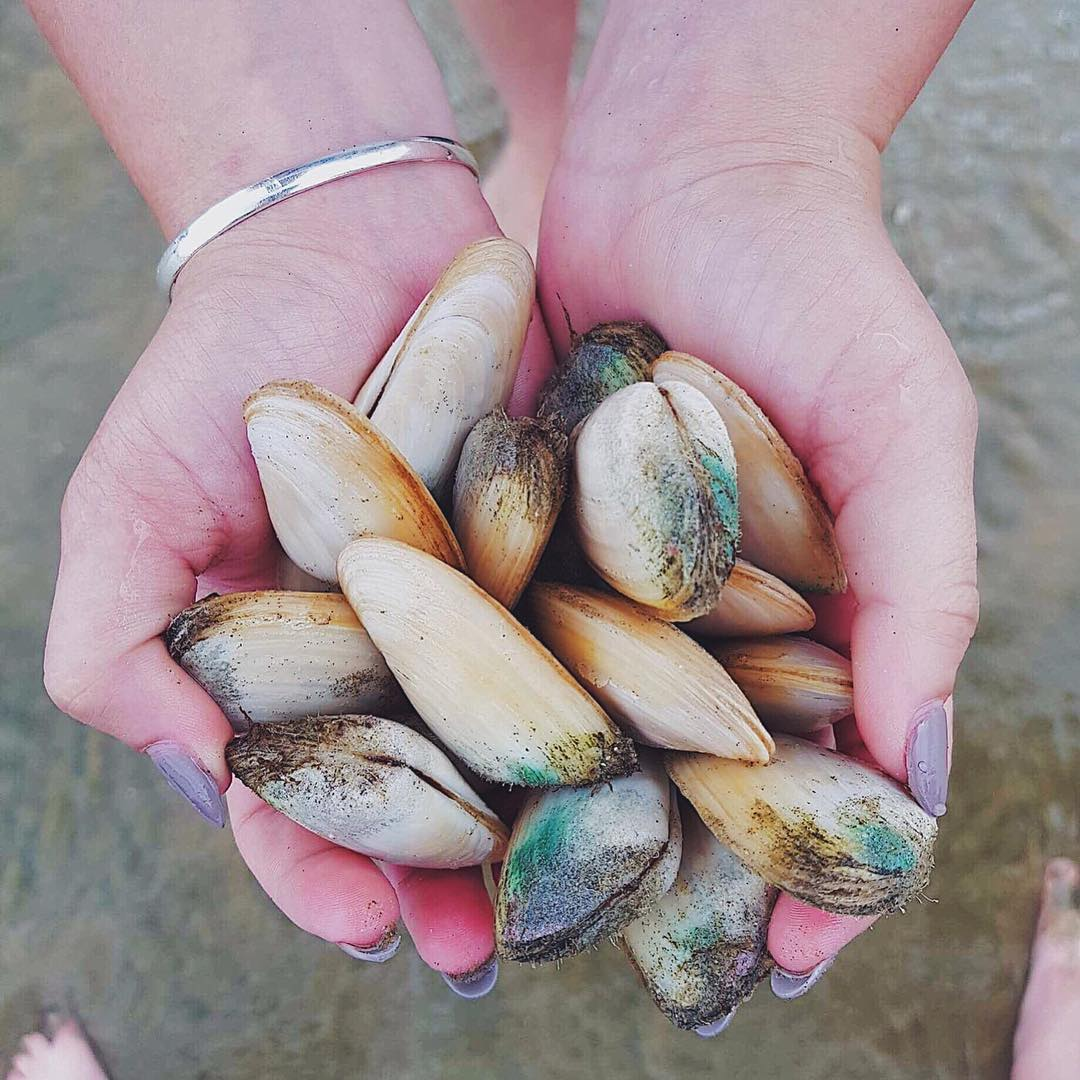tuatua: (328, 530, 647, 789), (662, 730, 950, 916), (524, 575, 784, 764), (222, 712, 512, 875), (563, 378, 747, 627), (360, 232, 539, 485), (240, 377, 464, 577), (490, 785, 686, 968), (157, 584, 402, 725), (450, 408, 566, 613), (631, 880, 778, 1039), (714, 626, 863, 741)
